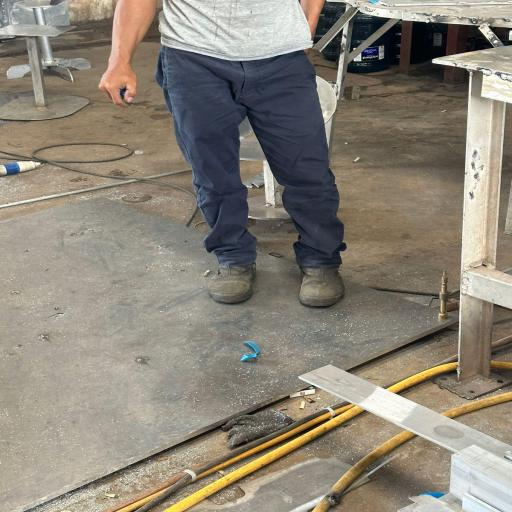safety_shoe: (284, 252, 368, 313), (201, 248, 267, 308)
